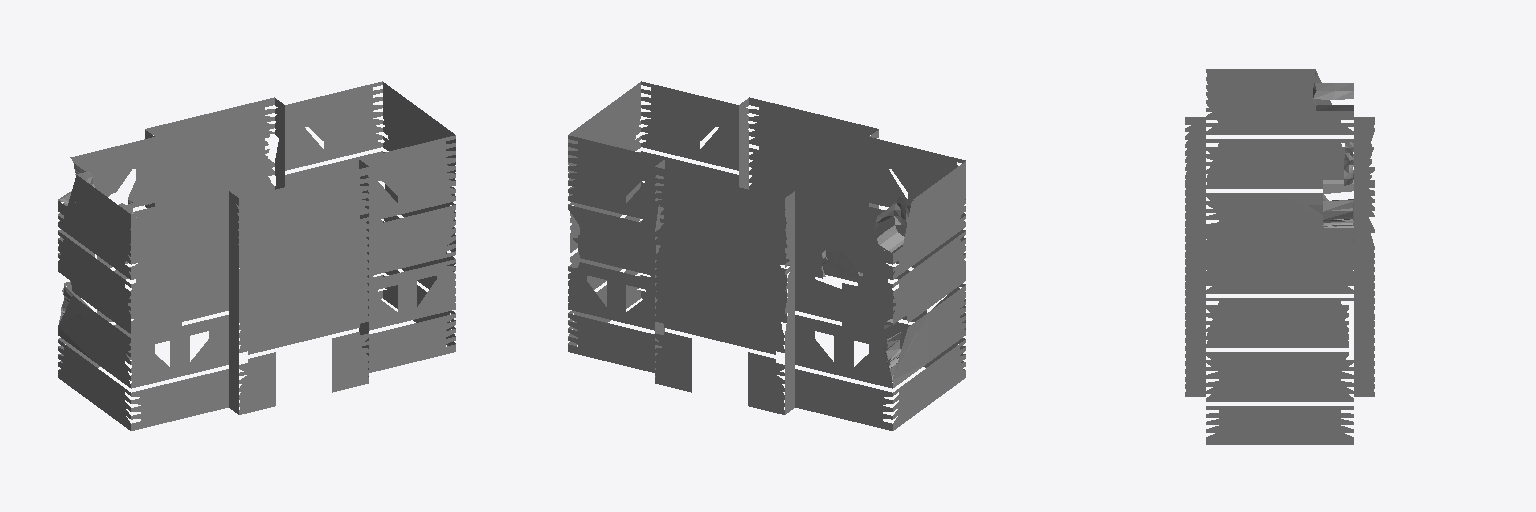
File: cihly.obj
3 views of the same model, side by side, from view 1: azimuth 30°, elevation 25°; view 2: azimuth 150°, elevation 25°; view 3: azimuth 270°, elevation 25° (orthographic).
Visible parts, largest first — view 1: building4_cihly_Cube.112; view 2: building4_cihly_Cube.112; view 3: building4_cihly_Cube.112.
Boxes of the visible parts, box(x1,y1,x2,y2) form: building4_cihly_Cube.112: box(58, 81, 455, 430); building4_cihly_Cube.112: box(568, 81, 965, 430); building4_cihly_Cube.112: box(1185, 69, 1374, 444).
Size of the model in its own units: 20.7 by 13.2 by 10.38.